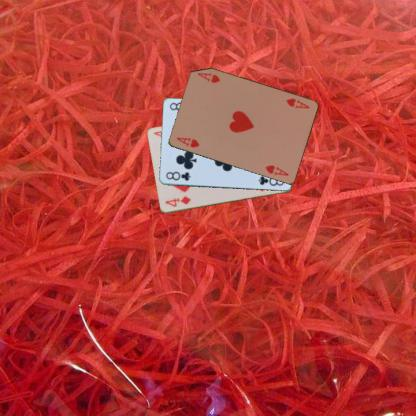4d: (162, 194, 192, 208)
8c: (163, 169, 192, 182)
Ah: (283, 96, 311, 110), (174, 135, 200, 149)
